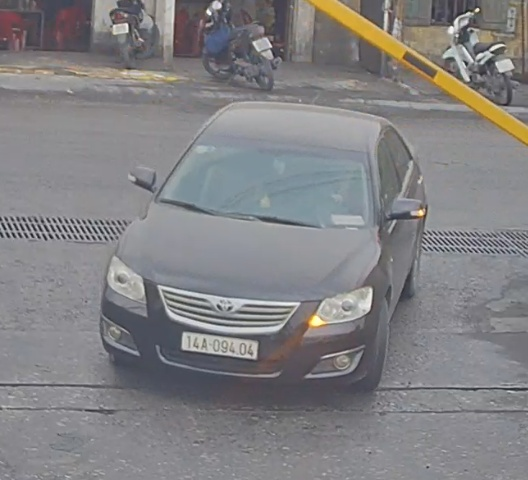vehicle plate: (176, 325, 261, 359)
